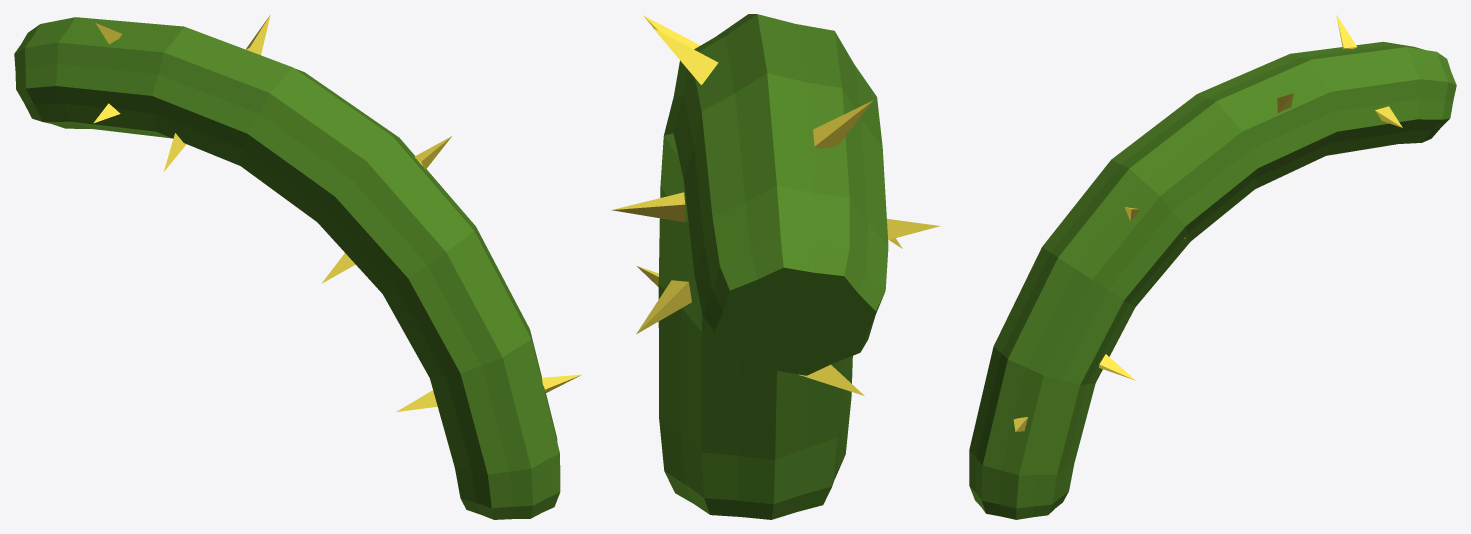
File: Cactus_04_B.fbx
3 renders of one model, left to right at view 1: azimuth 30°, elevation 25°; view 2: azimuth 150°, elevation 25°; view 3: azimuth 270°, elevation 25°, orthographic. The views are drawn at different scales.
Visible parts, largest first — view 1: Cactus_04_B; view 2: Cactus_04_B; view 3: Cactus_04_B.
Boxes of the visible parts, x1,y1,x2,y2 form: Cactus_04_B: (14,14,581,519); Cactus_04_B: (611,14,940,519); Cactus_04_B: (969,14,1456,519).
Bounding box in the file's own units: 138 × 154 × 179.
